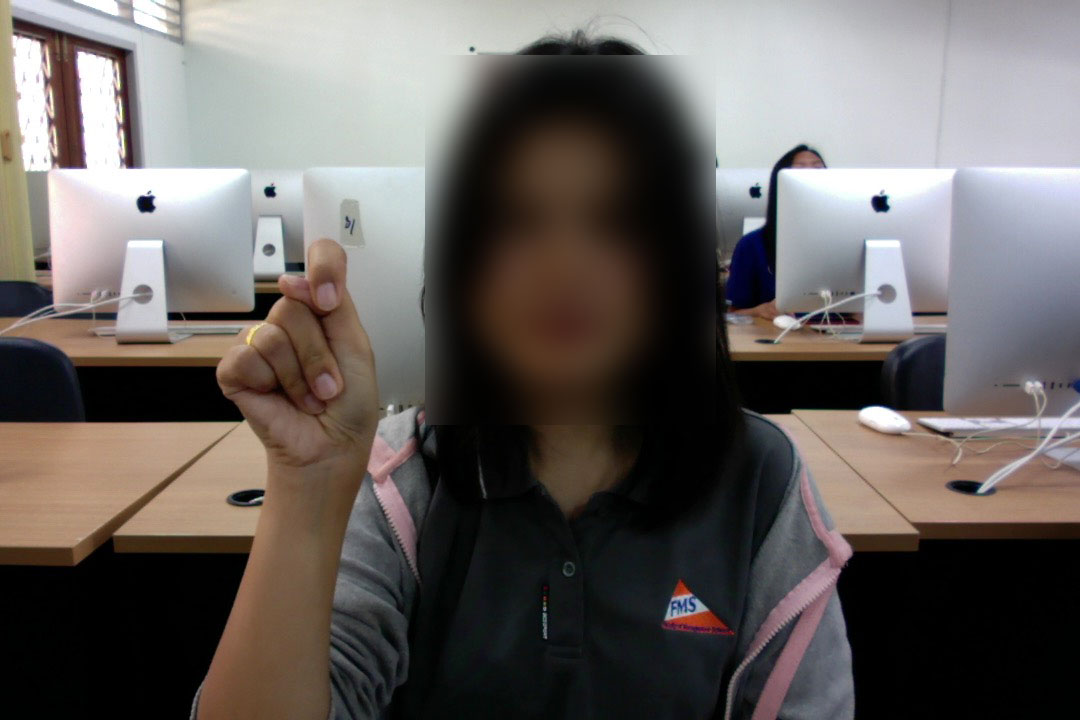tor: (212, 234, 381, 497)
